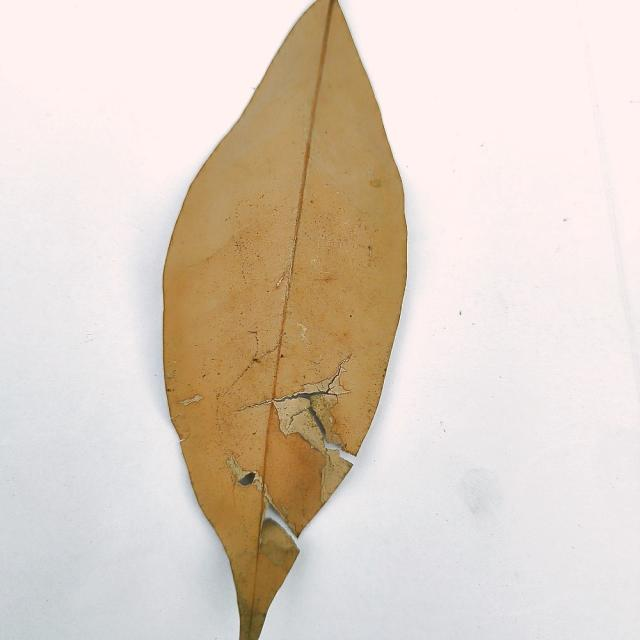Dry_Leaf-Lychee: (161, 0, 408, 639)
